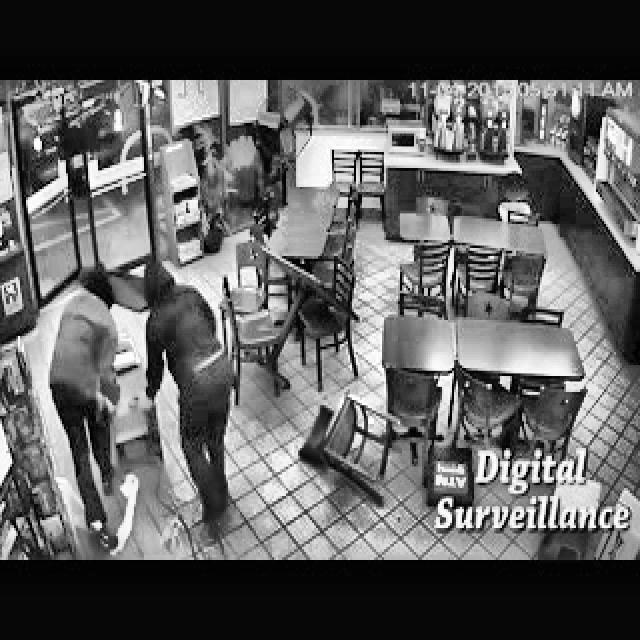burglary: (134, 249, 238, 525), (49, 260, 134, 548)
